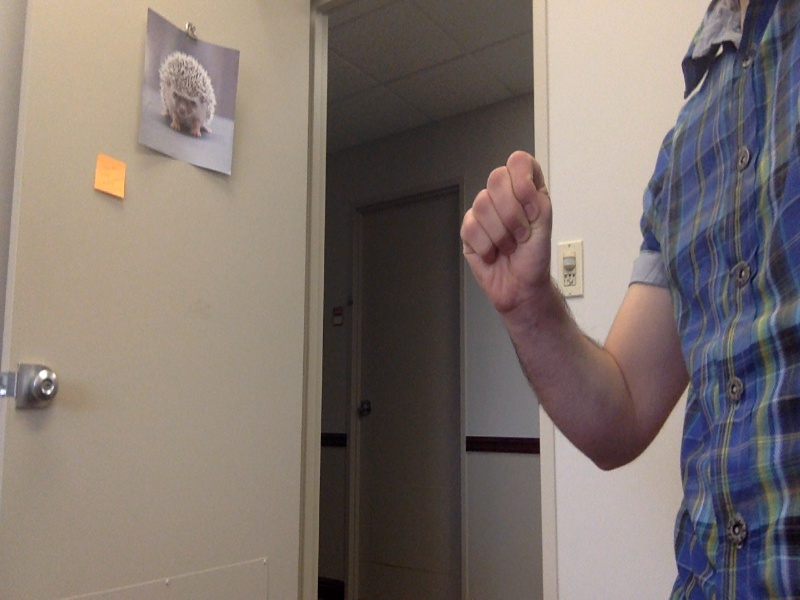0-hand: (451, 150, 561, 318)
